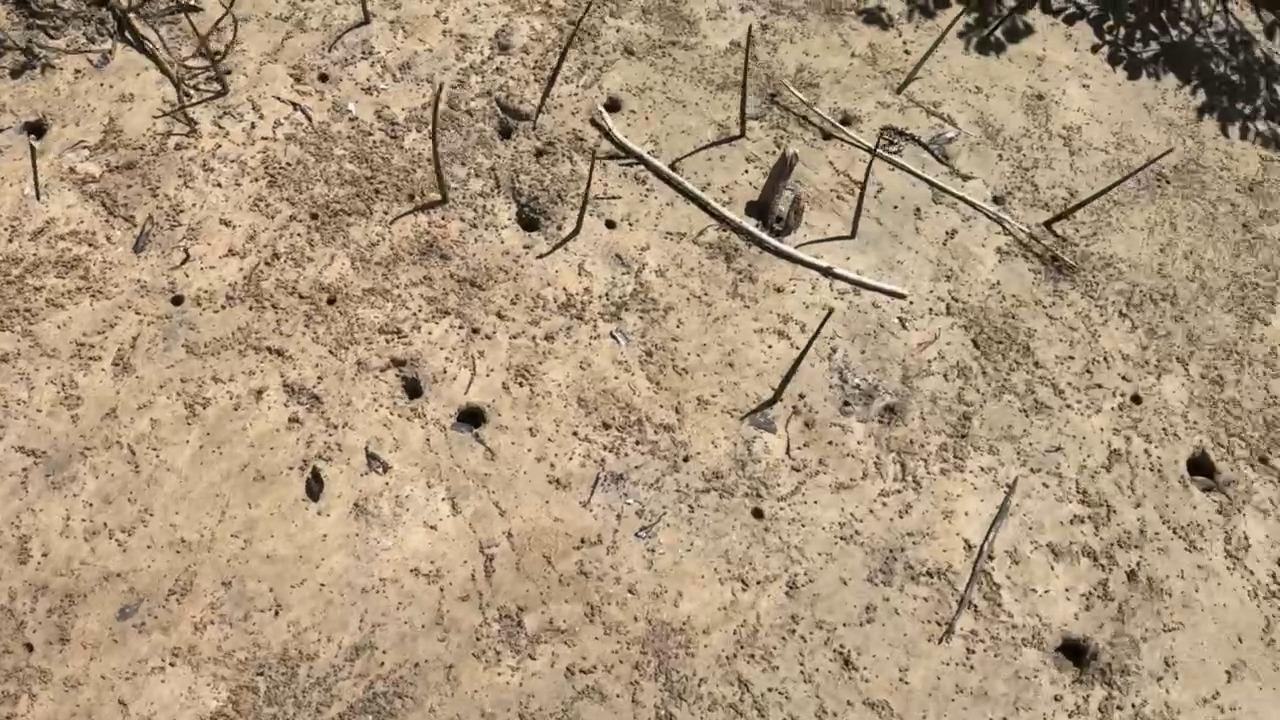Tree: (1043, 146, 1176, 228), (895, 0, 966, 96), (769, 308, 834, 405), (172, 0, 230, 94), (546, 2, 594, 97), (850, 136, 882, 240), (432, 80, 454, 205), (573, 151, 605, 233), (739, 22, 753, 139), (358, 0, 372, 25)
